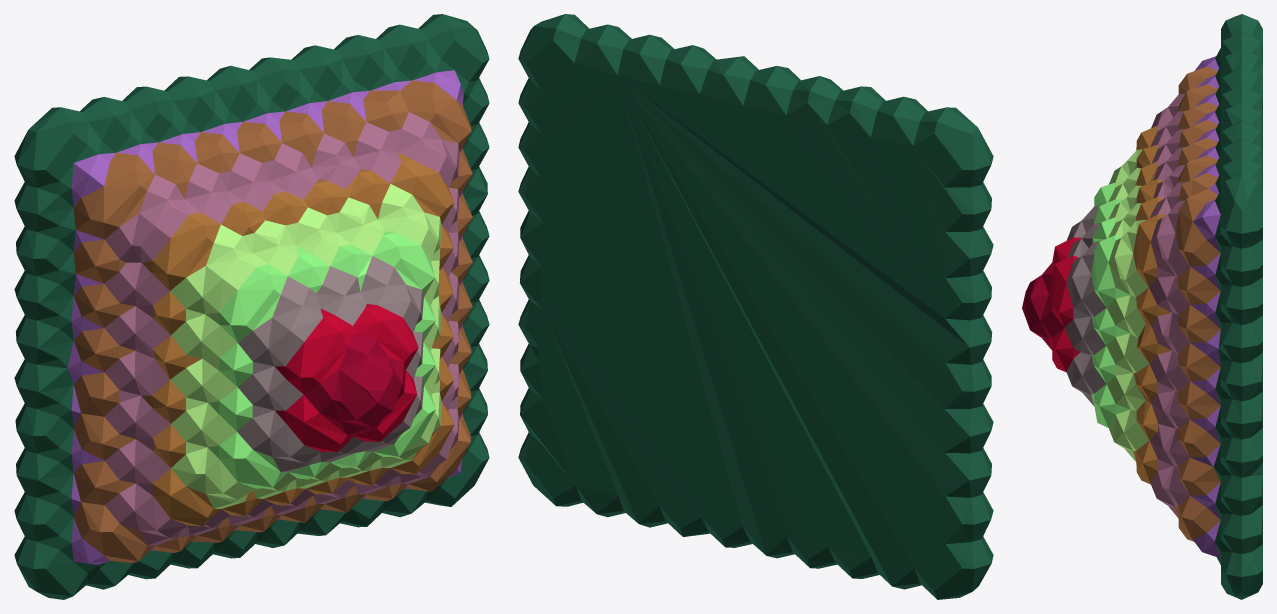
3 renders of one model, left to right at view 1: azimuth 30°, elevation 25°; view 2: azimuth 150°, elevation 25°; view 3: azimuth 270°, elevation 25°, orthographic. The views are drawn at different scales.
Visible parts, largest first — view 1: vivid_3d_obj; view 2: vivid_3d_obj; view 3: vivid_3d_obj.
Part boxes in pixels (<box>): vivid_3d_obj: <box>14,14,489,599</box>; vivid_3d_obj: <box>518,14,993,599</box>; vivid_3d_obj: <box>1022,14,1262,599</box>.
Bounding box in the file's own units: 22.25 × 22.25 × 11.44.
1 material, 1 textured.
